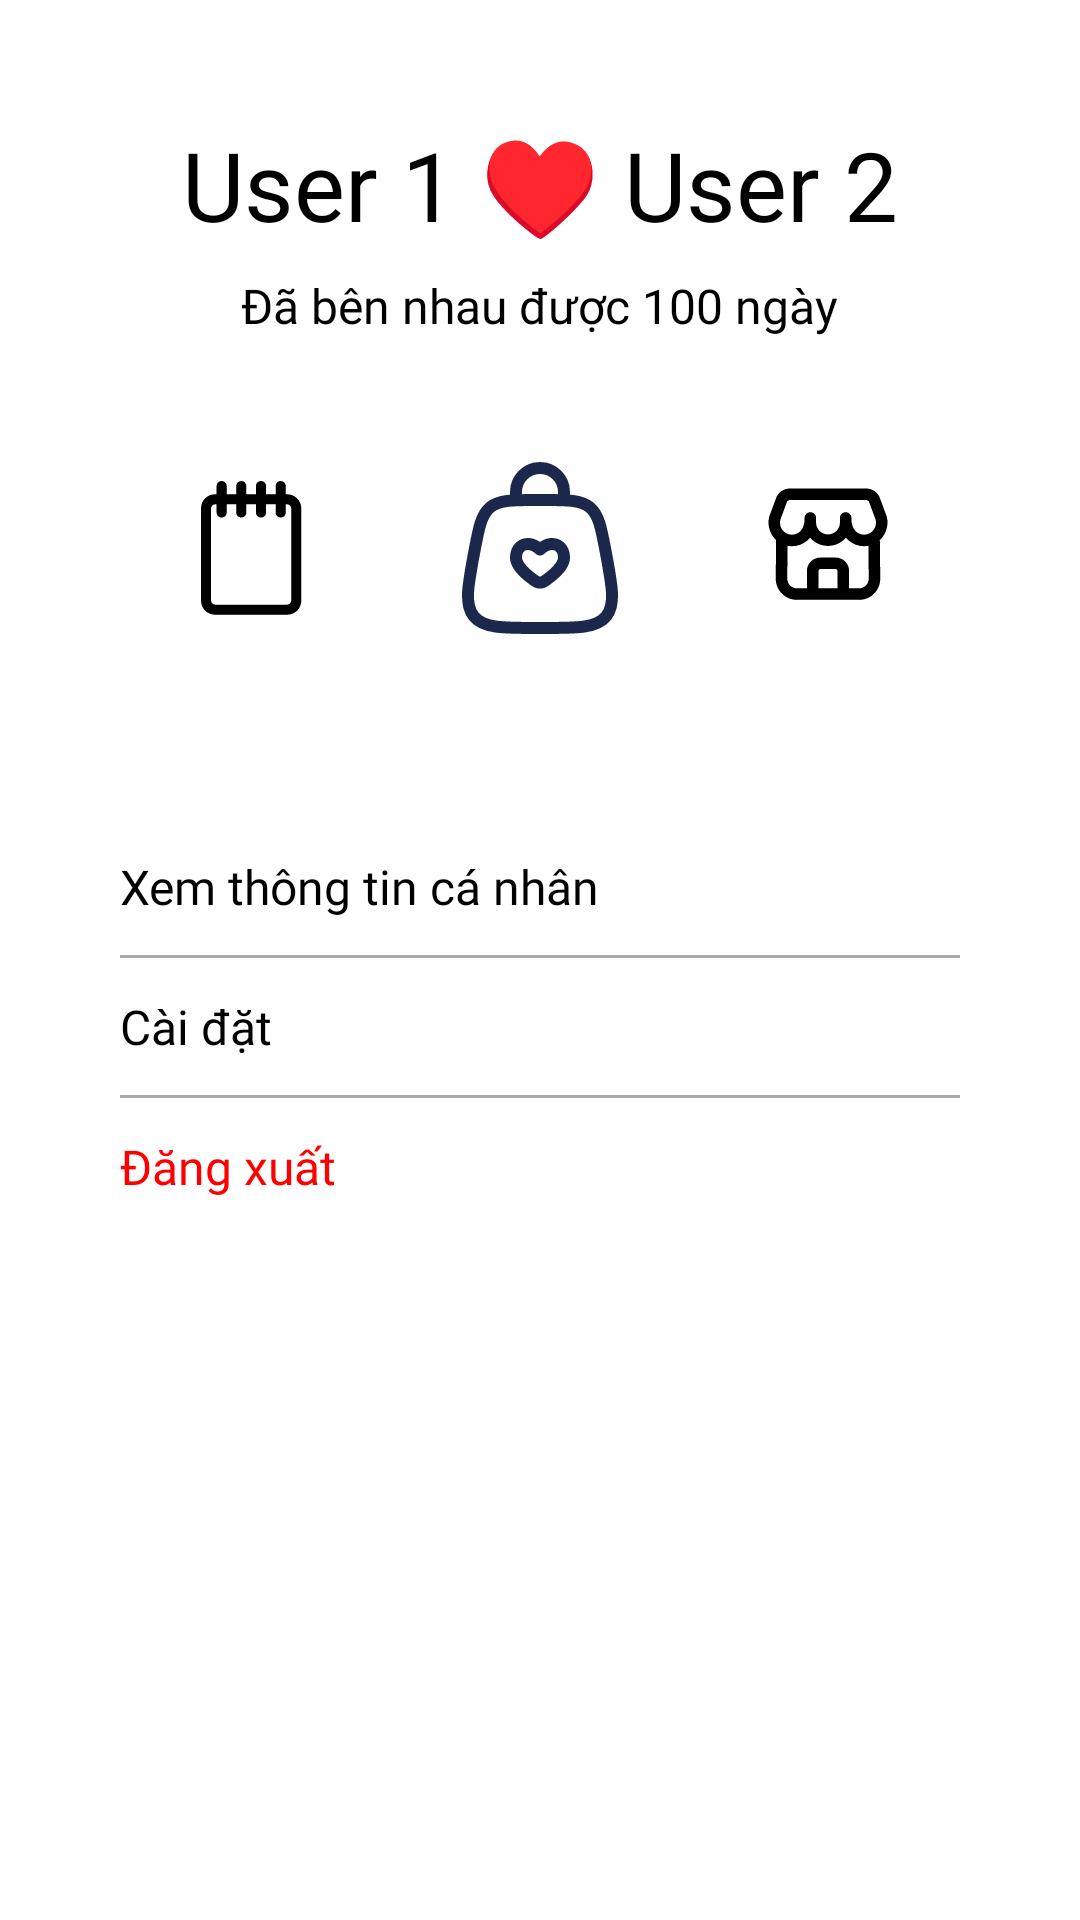

Icons on this 1080*1920 Android screen, each with its box as box=[x1, y1, x2, y2]:
profile bag: box=[462, 462, 618, 634]
profile note: box=[201, 481, 302, 615]
profile store: box=[768, 488, 888, 600]
